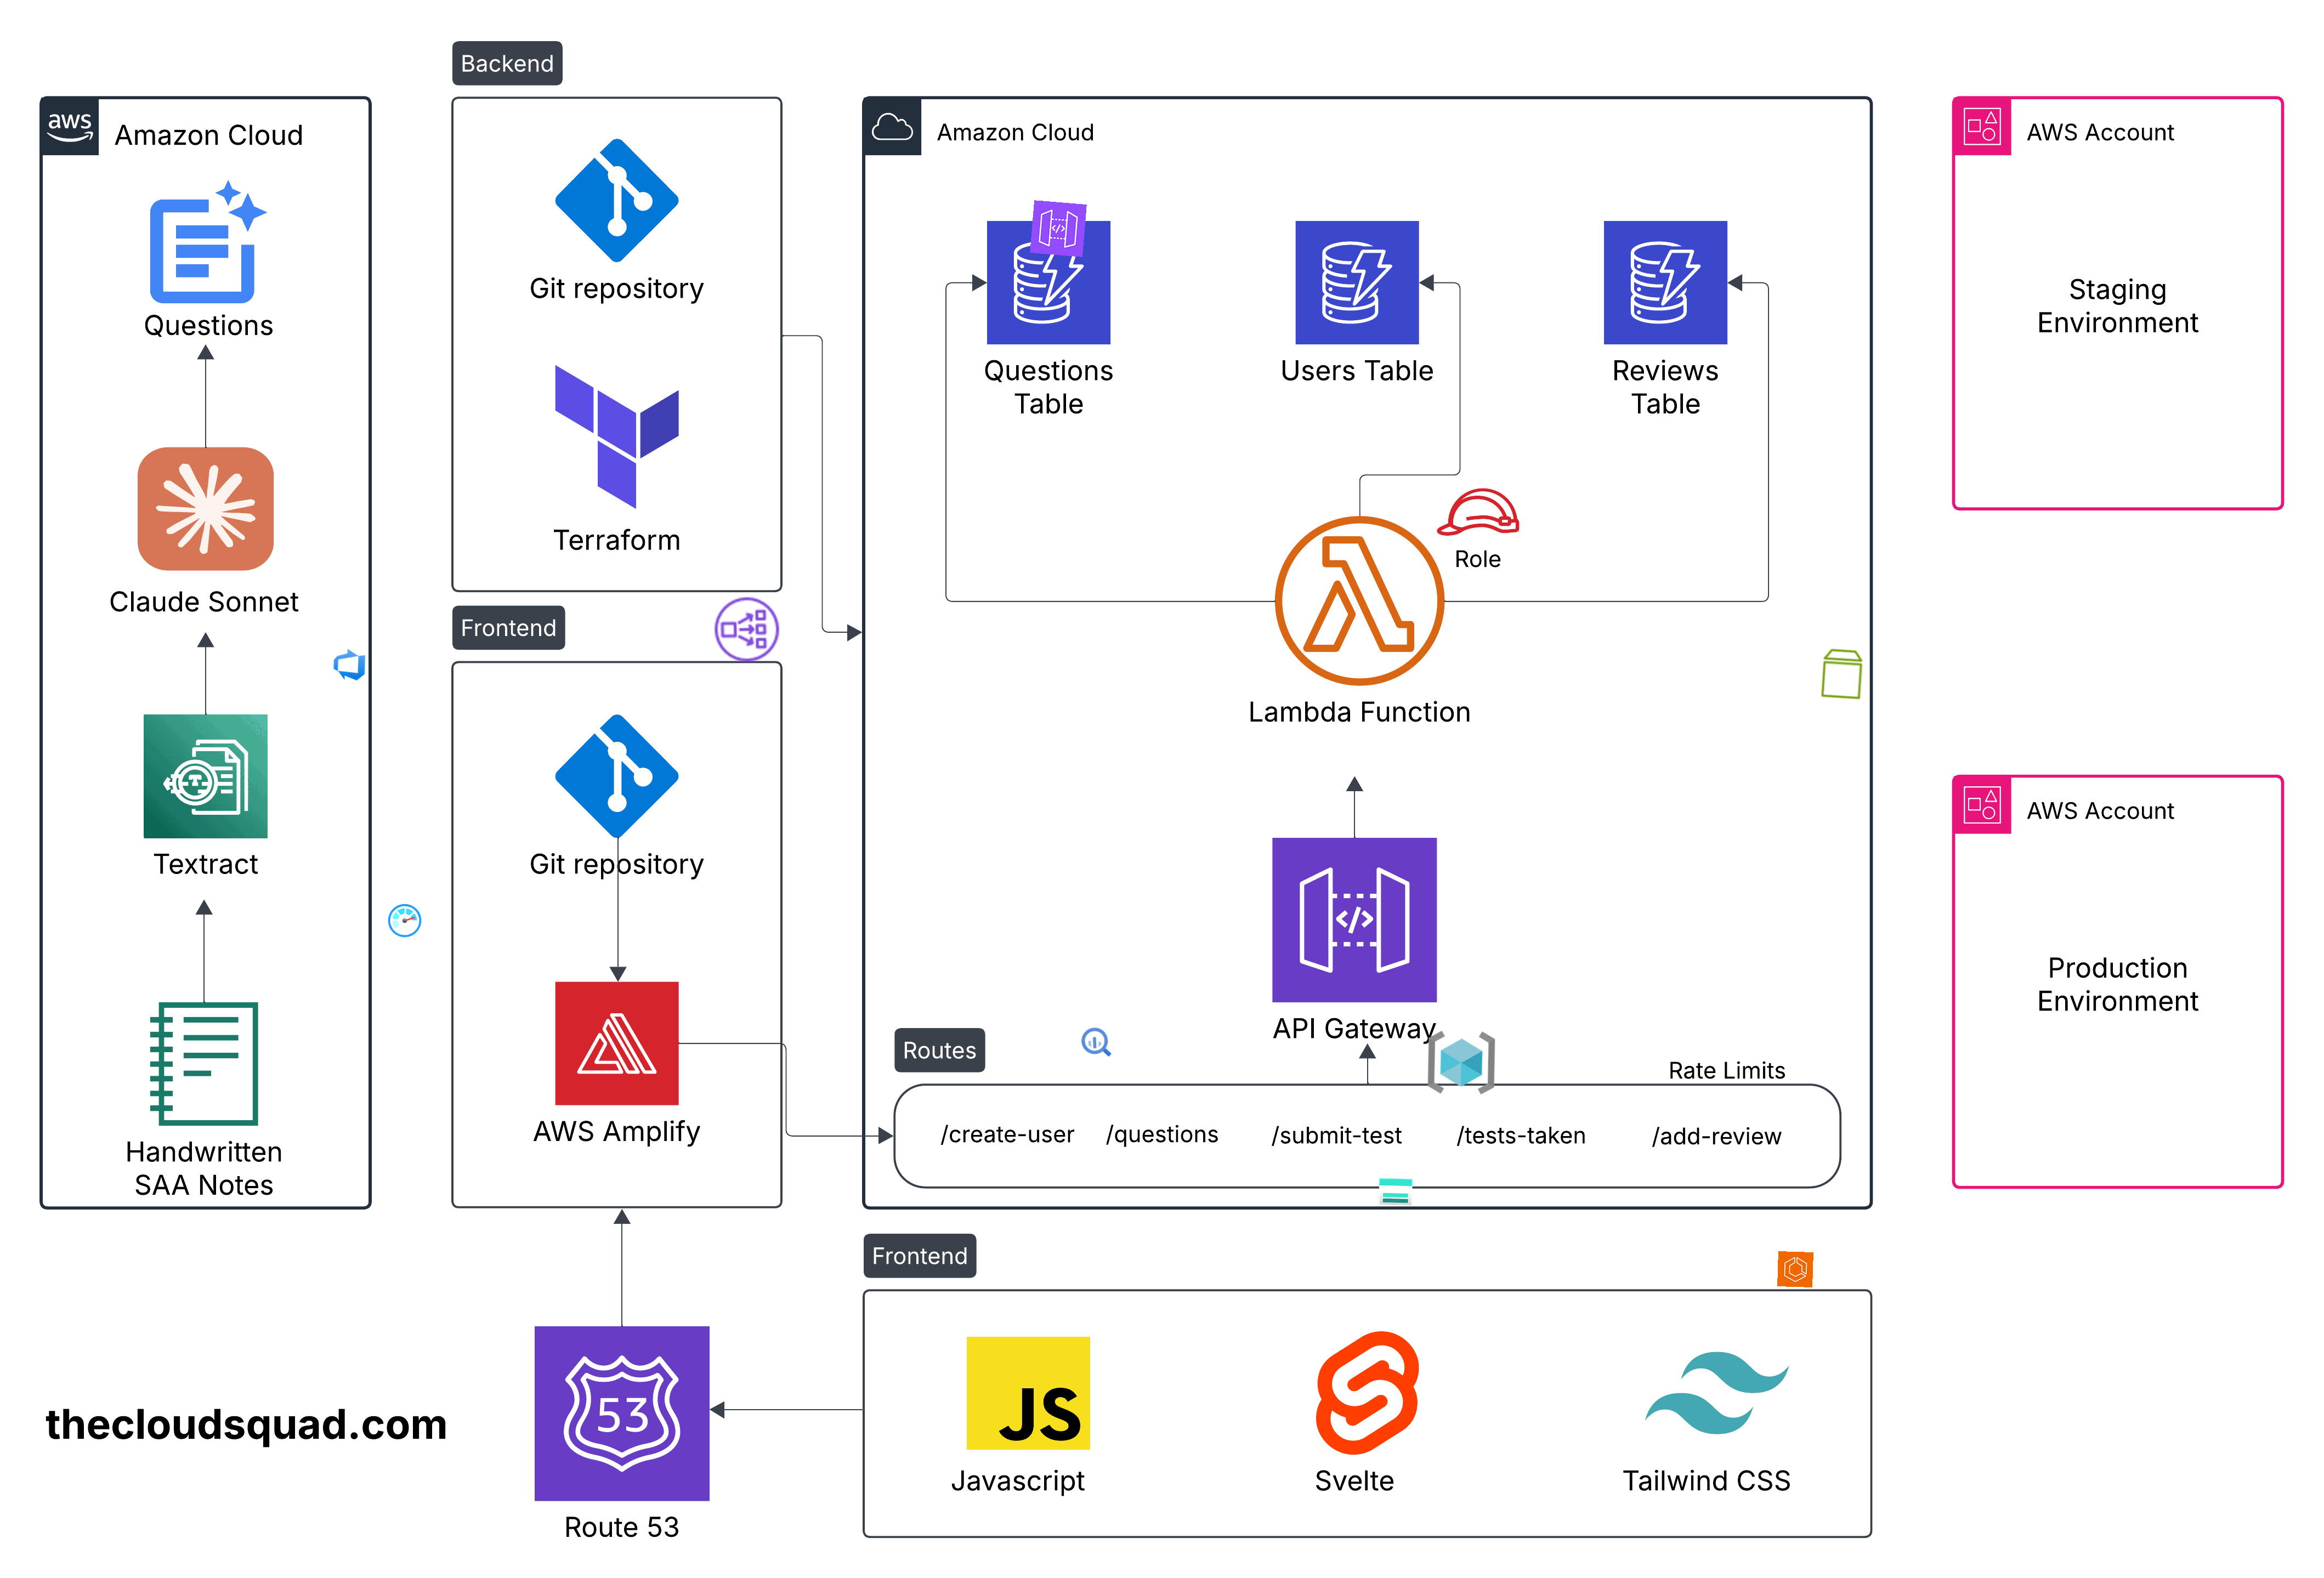aws_amazon_api_gateway: (1030, 201, 1086, 257)
aws_amazon_elastic_container_service: (1776, 1250, 1813, 1287)
aws_elastic_block_store_volume: (1815, 646, 1870, 701)
aws_elastic_load_balancing_network_load_balancer: (711, 594, 783, 666)
azure_devops: (331, 646, 368, 683)
azure_monitor: (386, 902, 424, 940)
azure_resource_groups: (1426, 1027, 1498, 1099)
azure_storage_accounts: (1377, 1175, 1414, 1210)
gcp_bigquery: (1077, 1023, 1114, 1060)
